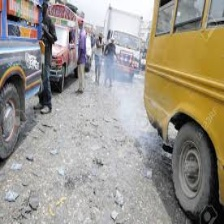smoke: (115, 63, 157, 133)
